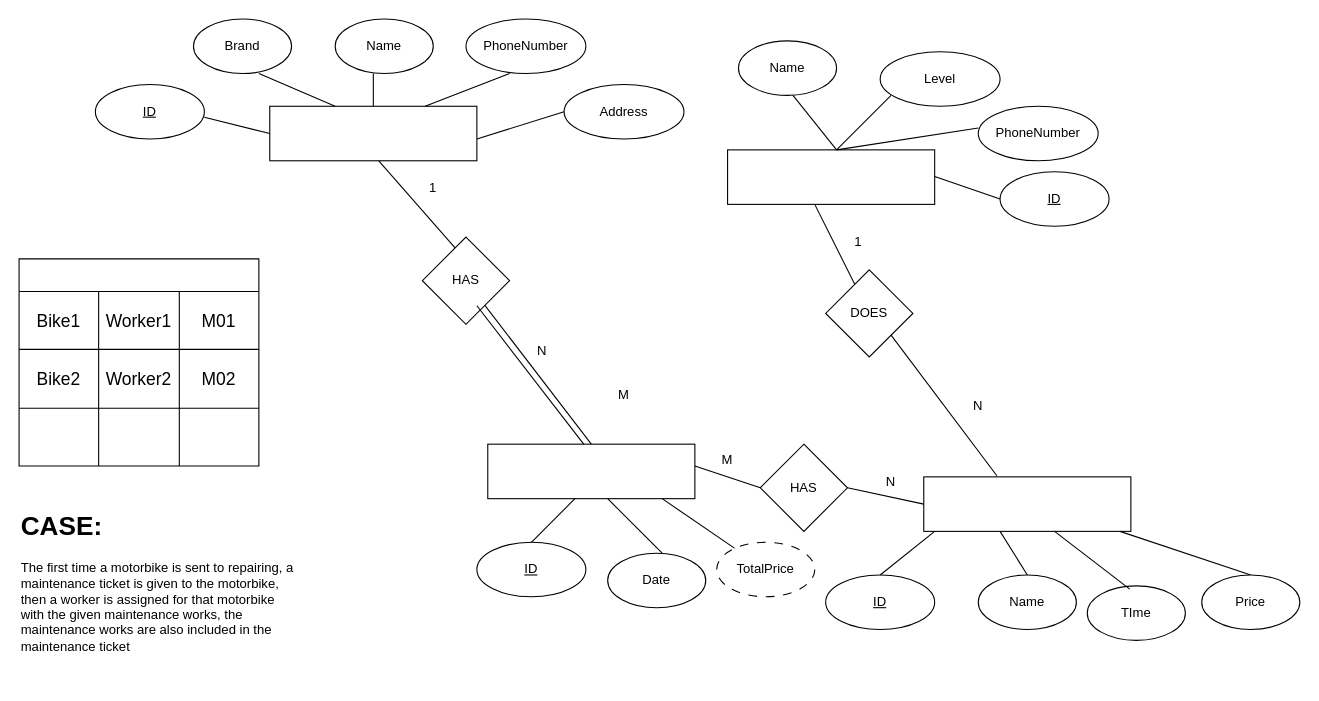
The diagram is 1319 pixels wide and 701 high, and some of its shapes have lost their labels. The box of each missing label's shape, as (x1, y1, x2, y2) in pixels:
MAINTENANCE_TICKET: (487, 443, 695, 499)
MAINTENANCE_WORK: (923, 476, 1131, 531)
Motor/Worker/Maintanance: (18, 258, 259, 466)
MOTORBIKE: (269, 105, 477, 161)
WORKER: (726, 149, 935, 204)
